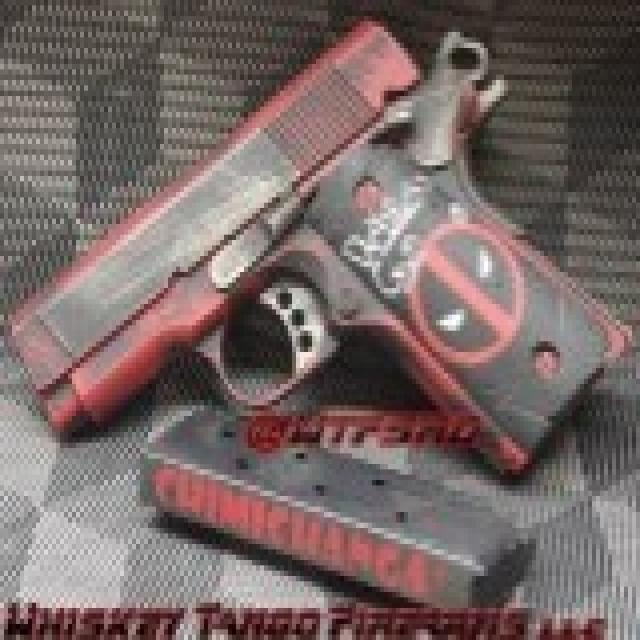Gun: (17, 14, 629, 538)
